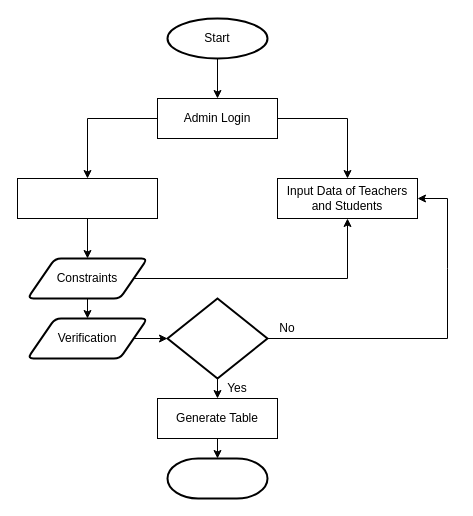
Image size: 473x516. Some labels were removed from this diagram. Each missing label, with the centre of its shape:
"If correct?" belongs at [217,338].
"Input Data of Classrooms and Subjects" belongs at [87,198].
"Stop" belongs at [217,478].
